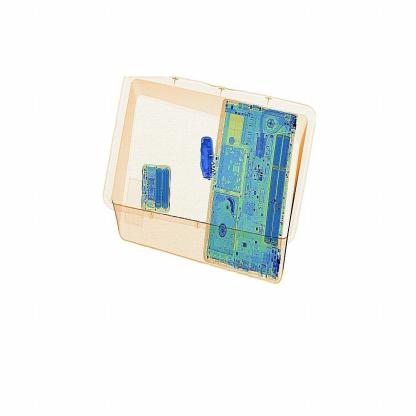scissors: (196, 130, 224, 191)
